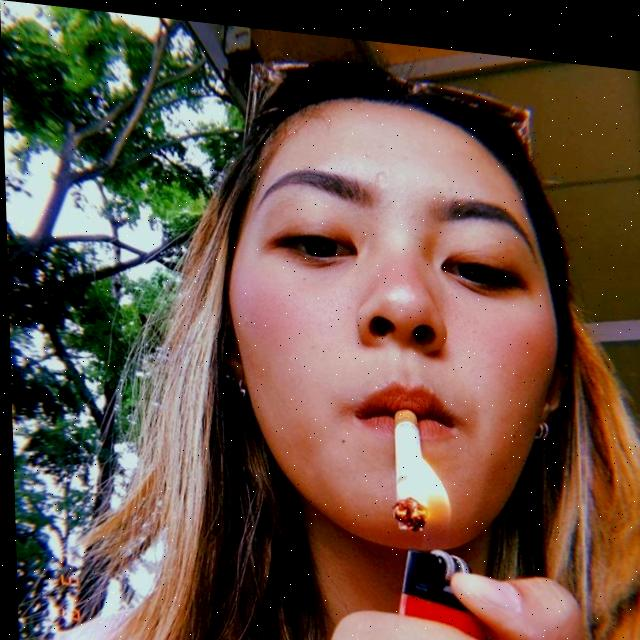cigarette: (385, 398, 427, 525)
